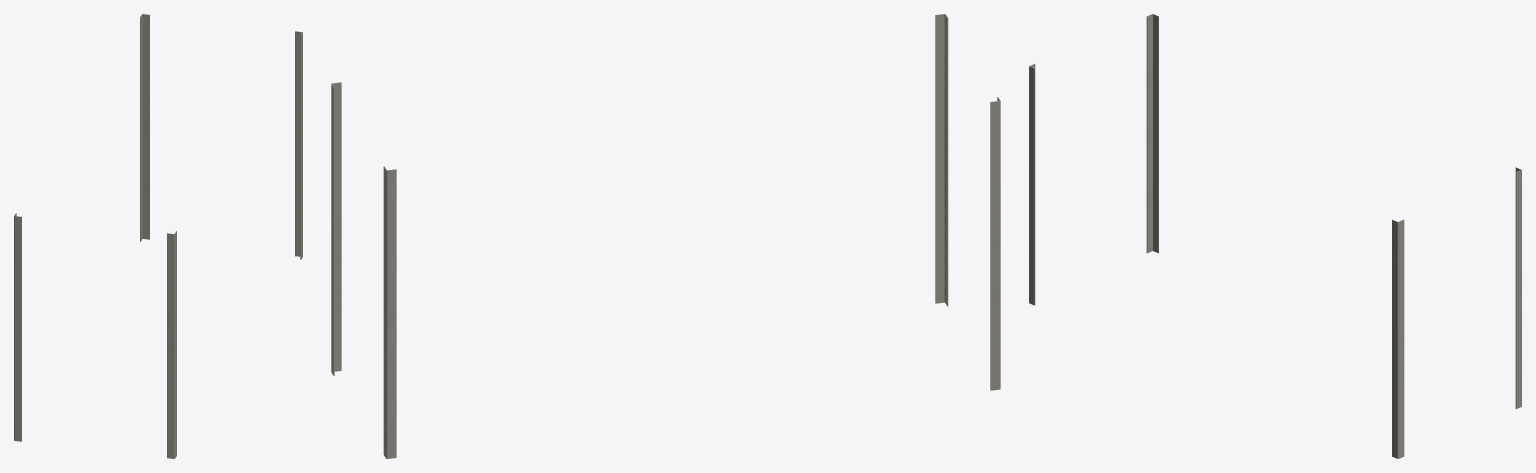
The model's file is shelf_0301_t50_h600_w1200.glb.
The picture shows the model from 3 angles, left to right: view 1: azimuth 30°, elevation 25°; view 2: azimuth 150°, elevation 25°; view 3: azimuth 270°, elevation 25°; orthographic projection. The views are drawn at different scales.
Visible parts, largest first — view 1: shelf_0301_t50_h600_w1200; view 2: shelf_0301_t50_h600_w1200; view 3: shelf_0301_t50_h600_w1200.
Boxes of the visible parts, x1,y1,x2,y2 form: shelf_0301_t50_h600_w1200: (14,14,302,458); shelf_0301_t50_h600_w1200: (331,14,1000,458); shelf_0301_t50_h600_w1200: (1029,14,1521,458).
Bounding box in the file's own units: 1.13 × 0.6 × 1.13.
Materials: 1 (1 with a texture image).
